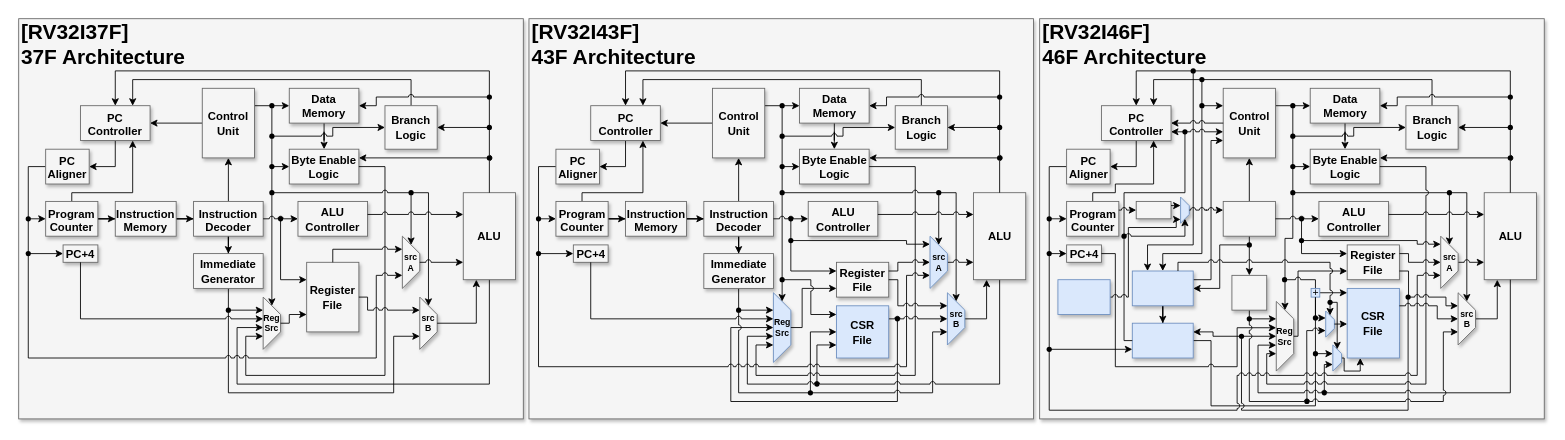
The diagram is 1565 pixels wide and 440 high, and some of its shapes have lost their labels. Here are the shapes that lost their labels. From the top down, the centre of each, then its label:
the point at 1154,211: I.MEM
the point at 1250,219: Decoder
the point at 1084,298: Debug Interface
the point at 1163,289: Exception Detector
the point at 1250,293: imm gen
the point at 1163,341: Trap Controller
